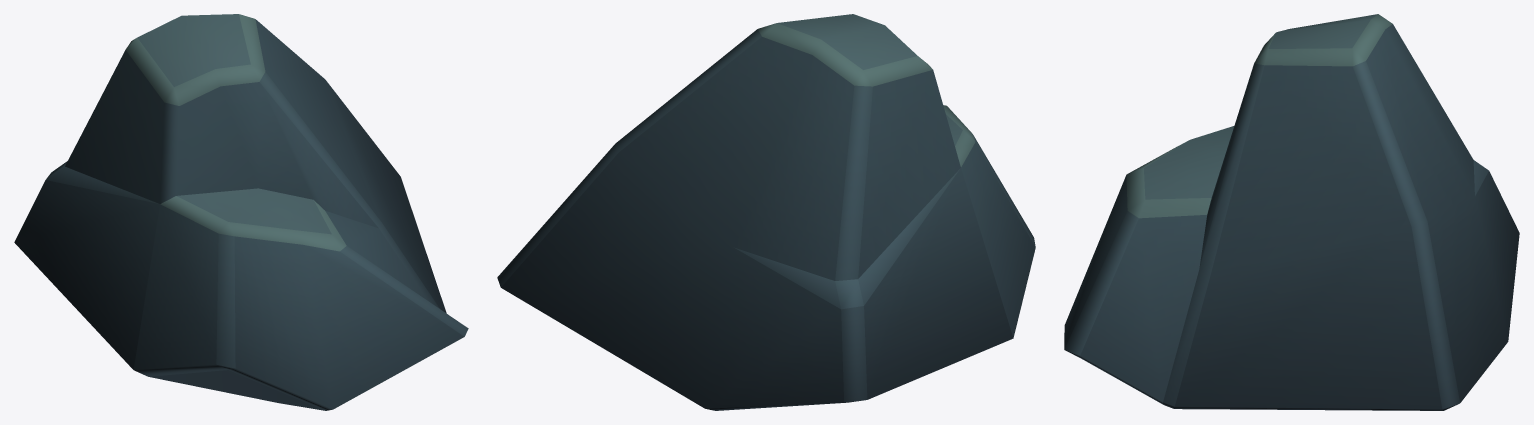
Rendered from rock_18.fbx.
3 renders of one model, left to right at view 1: azimuth 30°, elevation 25°; view 2: azimuth 150°, elevation 25°; view 3: azimuth 270°, elevation 25°, orthographic. The views are drawn at different scales.
Visible parts, largest first — view 1: rock_18; view 2: rock_18; view 3: rock_18.
Boxes of the visible parts, box(x1,y1,x2,y2) form: rock_18: box(14, 14, 468, 410); rock_18: box(497, 14, 1035, 410); rock_18: box(1064, 14, 1519, 410).
Size of the model in its own units: 244 by 214 by 253.
